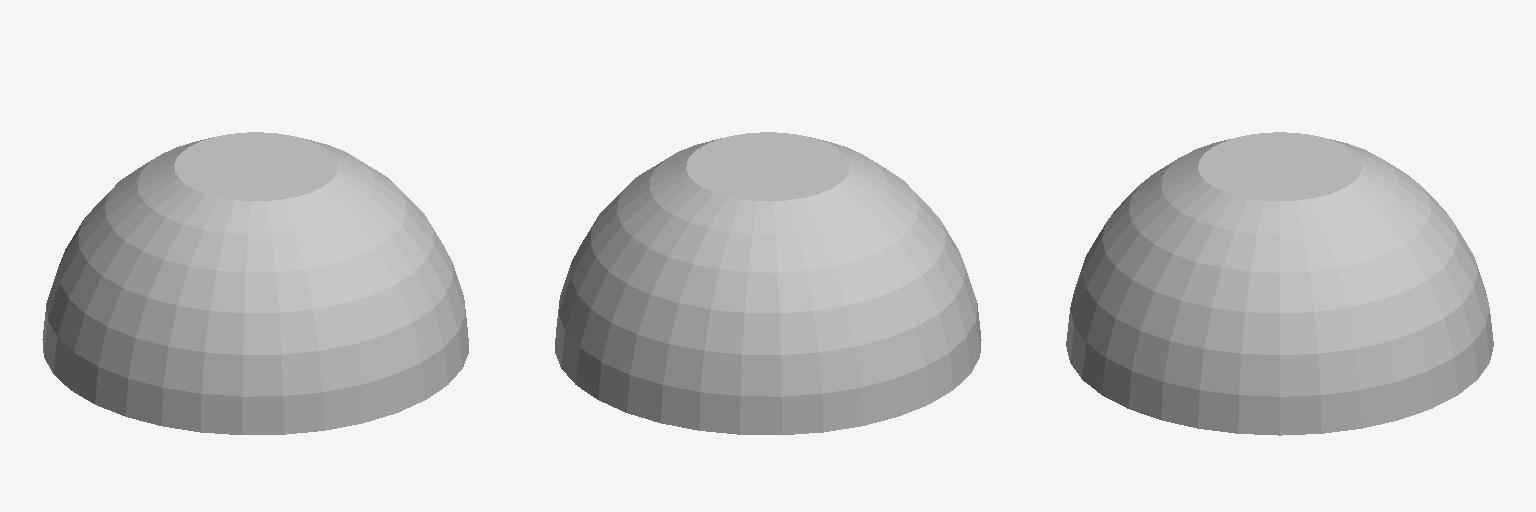
The model's file is skybox.obj.
3 views of the same model, side by side, from view 1: azimuth 30°, elevation 25°; view 2: azimuth 150°, elevation 25°; view 3: azimuth 270°, elevation 25° (orthographic).
Parts seen in each view (by area): view 1: Sphere; view 2: Sphere; view 3: Sphere.
Boxes of the visible parts, x1=… form: Sphere: x1=42, y1=132, x2=468, y2=434; Sphere: x1=555, y1=132, x2=981, y2=434; Sphere: x1=1066, y1=132, x2=1493, y2=435.
Size of the model in its own units: 2 by 0.9195 by 2.